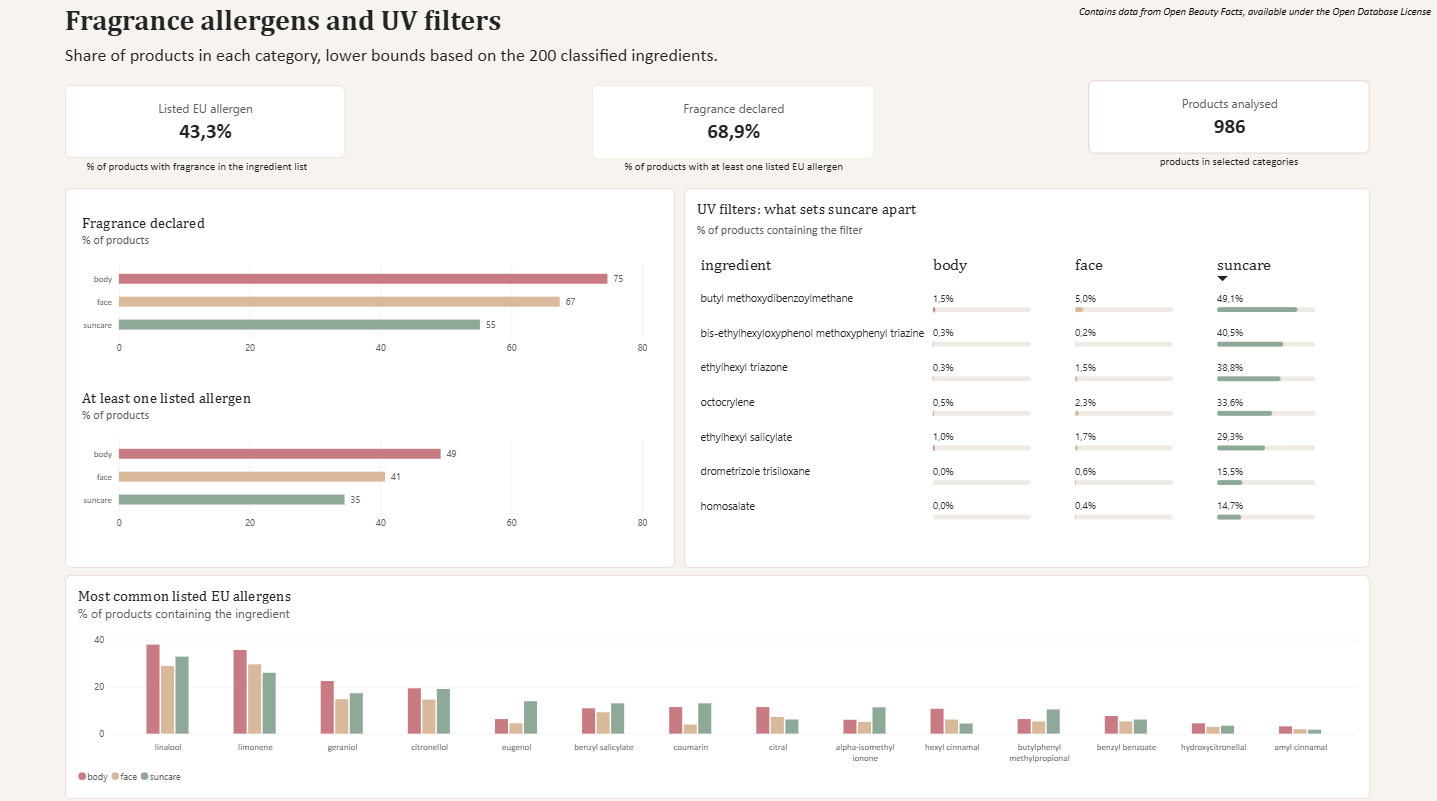

What the dashboard file says about the page in this screenshot:
{"tool":"powerbi","page":{"name":"Details","canvas":[1920,1080],"ordinal":1},"visuals":[{"type":"group","id":"g1","title":"Grupa 1","box":[82,12,1747,1058],"z":0},{"type":"shape","box":[93,256.9,811,504.8],"z":0,"group":"g1"},{"type":"barChart","title":"Fragrance declared","fields":{"Category":["vw_allergen_share.category"],"Y":["Sum(vw_allergen_share.pct_fragrance)"]},"box":[99,277,784,222.4],"z":1000,"group":"g1"},{"type":"textbox","box":[1290.1,1041.4,599.9,38.6],"z":1000},{"type":"textbox","box":[1442,11.4,471.4,28.6],"z":2000},{"type":"cardVisual","fields":{"Data":["vw_allergen_share.Products analysed"]},"box":[1453,113,375,98],"z":2000,"group":"g1"},{"type":"cardVisual","fields":{"Data":["vw_allergen_share.Fragrance share"]},"box":[794,120,375,98],"z":3000,"group":"g1"},{"type":"textbox","box":[93,65,966.8,55.4],"z":4000,"group":"g1"},{"type":"textbox","box":[93,12,790.6,55.6],"z":5000,"group":"g1"},{"type":"textbox","box":[794,218,377,29],"z":7000,"group":"g1"},{"type":"textbox","box":[1453,211,375,28],"z":8000,"group":"g1"},{"type":"barChart","title":"At least one listed allergen","fields":{"Category":["vw_allergen_share.category"],"Y":["Sum(vw_allergen_share.pct_allergen)"]},"box":[99,508.9,784,222.4],"z":9000,"group":"g1"},{"type":"pivotTable","title":"UV filters: what sets suncare apart","fields":{"Rows":["vw_cat_ingredient_share.ingredient"],"Values":["vw_cat_ingredient_share.Body bar","vw_cat_ingredient_share.Face bar","vw_cat_ingredient_share.Suncare bar"]},"box":[916,256.8,912,504.8],"z":10000,"group":"g1"},{"type":"cardVisual","fields":{"Data":["vw_allergen_share.Allergen share"]},"box":[93,120,373,97.5],"z":11000,"group":"g1"},{"type":"textbox","box":[82,218,372,27],"z":12000,"group":"g1"},{"type":"clusteredColumnChart","title":"Most common listed EU allergens","fields":{"Category":["vw_cat_ingredient_share.ingredient"],"Series":["vw_cat_ingredient_share.category"],"Y":["Max(vw_cat_ingredient_share.pct_products)"]},"box":[93,772,1736,298],"z":13000,"group":"g1"}]}

Visuals, with their boxes in screenshot pixels (x1, y1, x2, y2), scaled from the page's 1920x1080 canvas onto the 1437x801 screenshot:
"Grupa 1" group: bbox(61, 9, 1369, 794)
shape: bbox(70, 191, 677, 565)
"Fragrance declared" barChart: bbox(74, 205, 661, 370)
textbox: bbox(966, 772, 1415, 800)
textbox: bbox(1079, 8, 1432, 30)
cardVisual - vw_allergen_share.Products analysed: bbox(1087, 84, 1368, 156)
cardVisual - vw_allergen_share.Fragrance share: bbox(594, 89, 875, 162)
textbox: bbox(70, 48, 793, 89)
textbox: bbox(70, 9, 661, 50)
textbox: bbox(594, 162, 876, 183)
textbox: bbox(1087, 156, 1368, 177)
"At least one listed allergen" barChart: bbox(74, 377, 661, 542)
"UV filters: what sets suncare apart" pivotTable: bbox(686, 190, 1368, 565)
cardVisual - vw_allergen_share.Allergen share: bbox(70, 89, 349, 161)
textbox: bbox(61, 162, 340, 182)
"Most common listed EU allergens" clusteredColumnChart: bbox(70, 573, 1369, 794)
